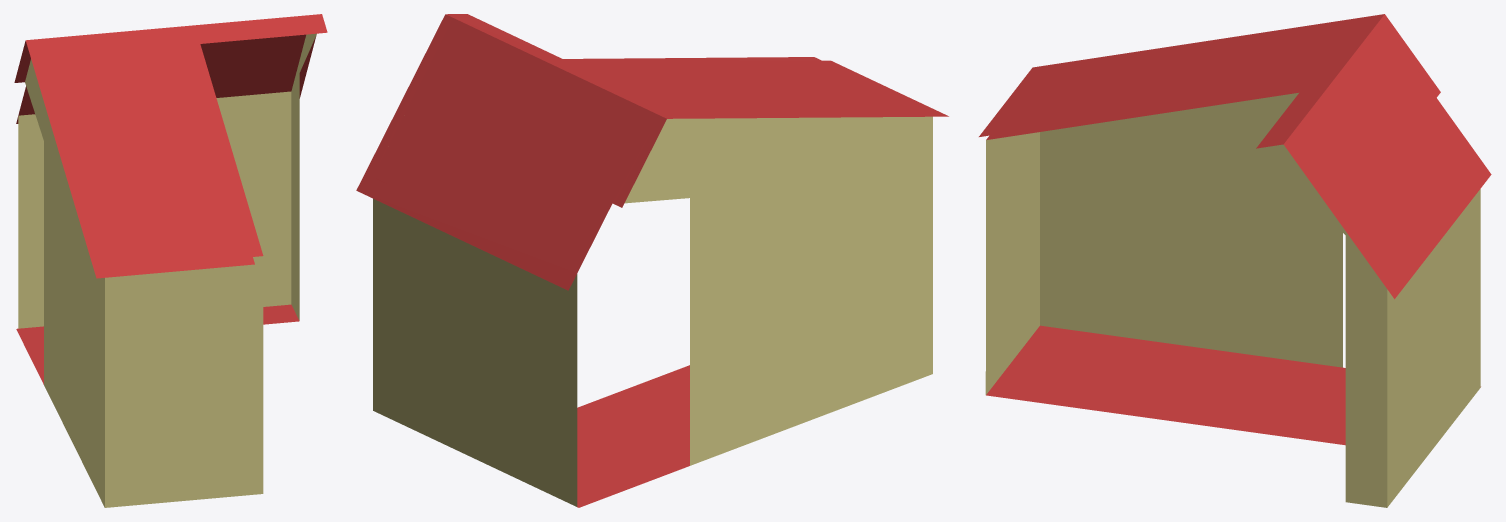
3 views of the same model, side by side, from view 1: azimuth 30°, elevation 25°; view 2: azimuth 150°, elevation 25°; view 3: azimuth 270°, elevation 25° (orthographic). The views are drawn at different scales.
Size of the model in its own units: 9.93 by 11.06 by 8.43.
